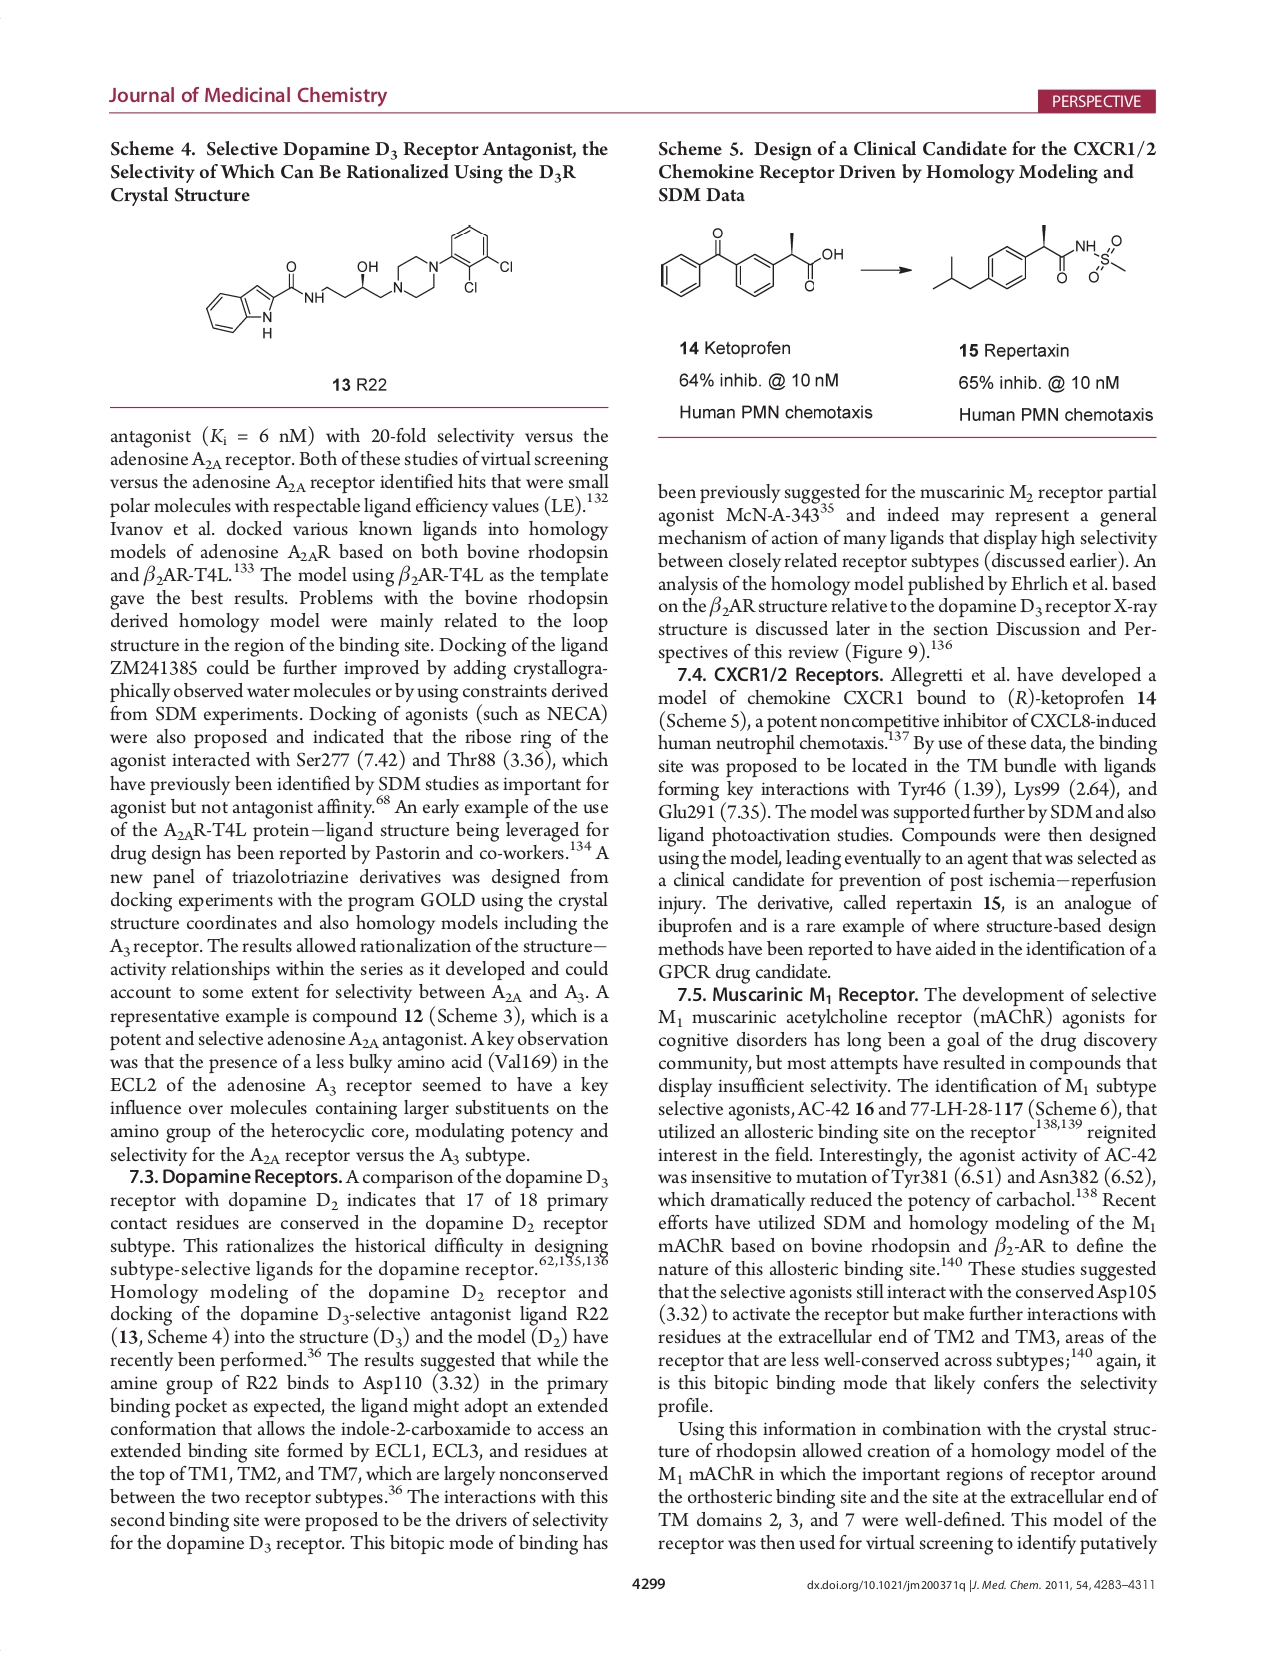exist_molecular: (202, 215, 517, 342), (653, 223, 844, 306), (927, 221, 1126, 298)
